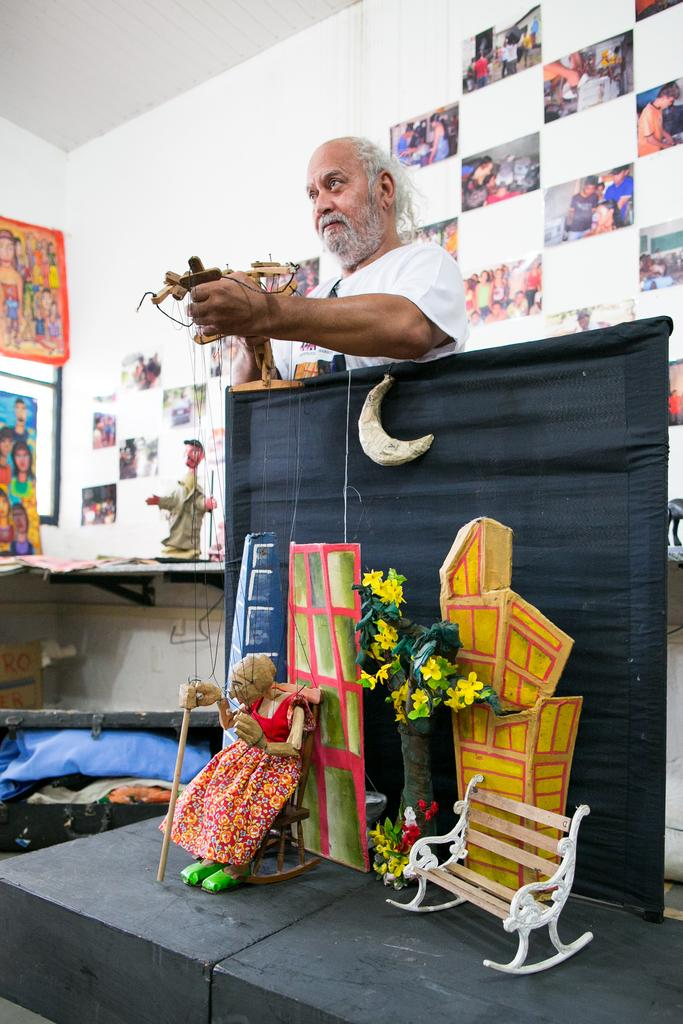Chair: (185, 680, 325, 883)
